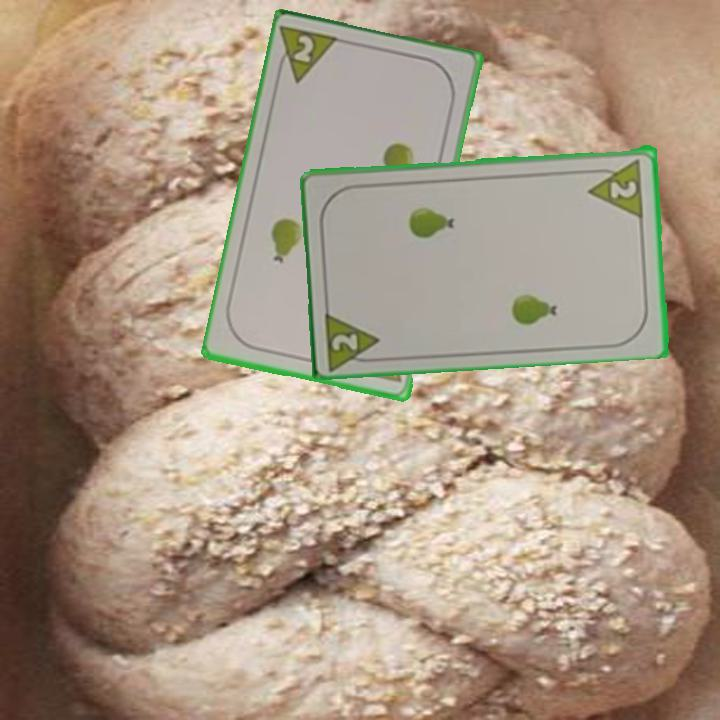2p: (275, 23, 345, 88), (322, 305, 385, 370), (585, 155, 647, 218)
